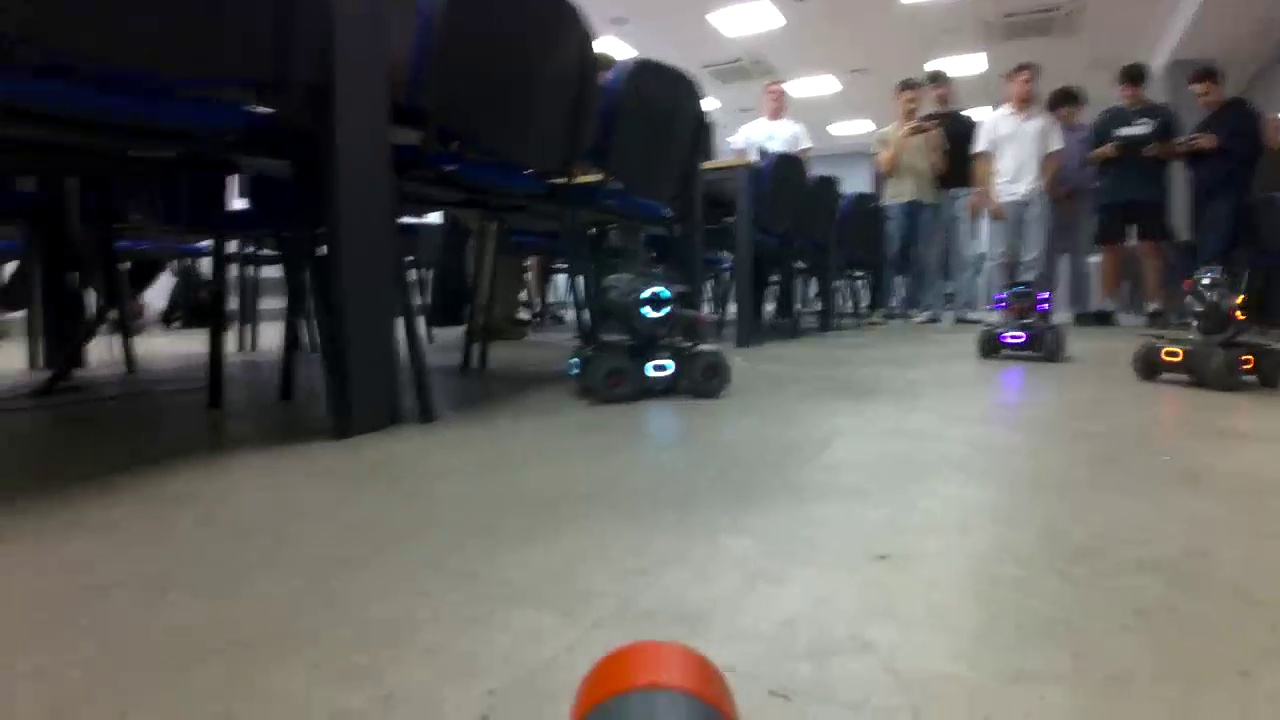robot: (570, 269, 733, 402), (1133, 266, 1280, 392), (977, 282, 1064, 361)
